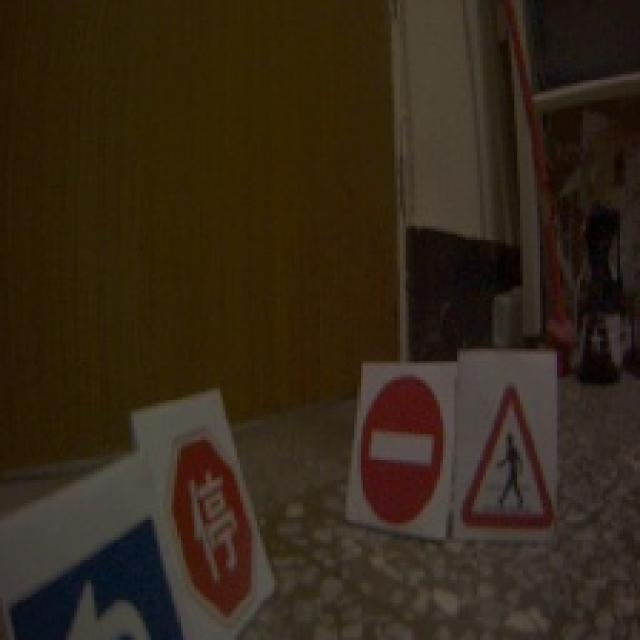DoNotEnterSign: (358, 371, 449, 527)
